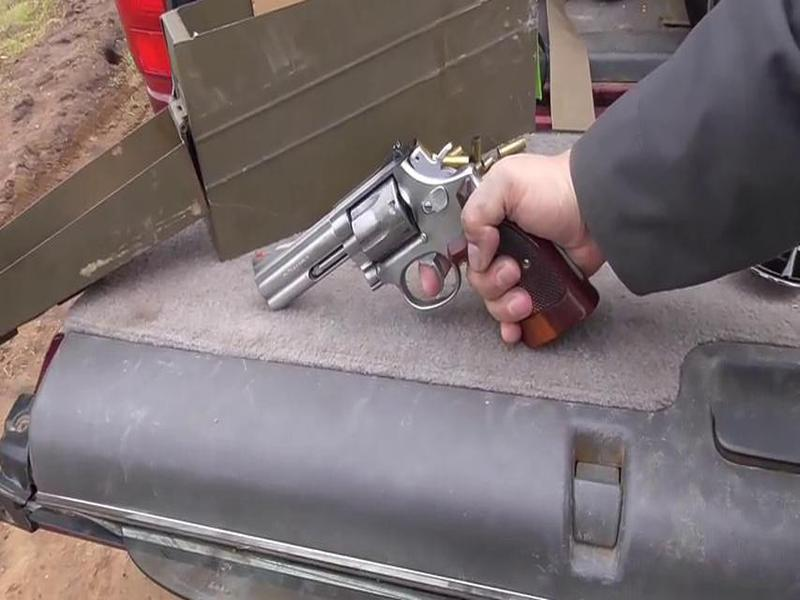Revolver: (238, 132, 525, 357)
